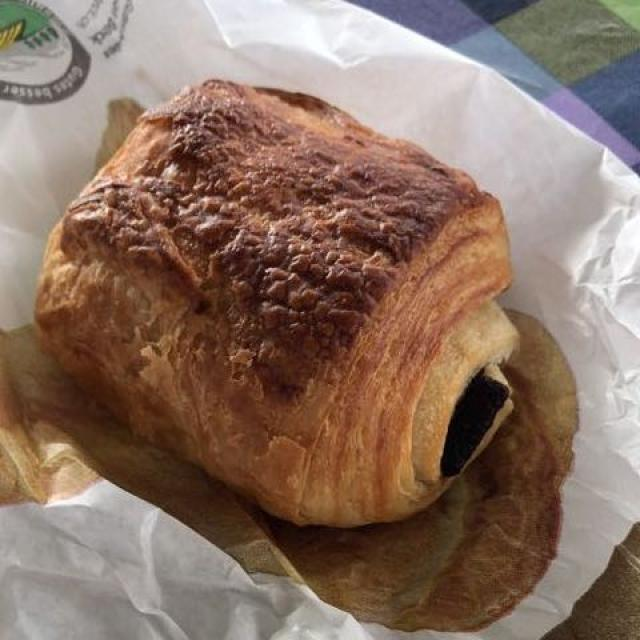croissant-with-chocolate-filling: (20, 75, 551, 558)
